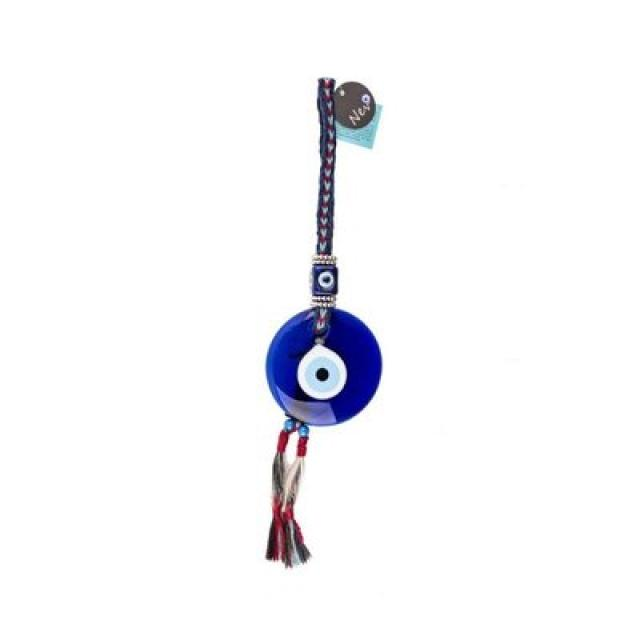Nazar-Boncugu: (267, 308, 381, 428)
